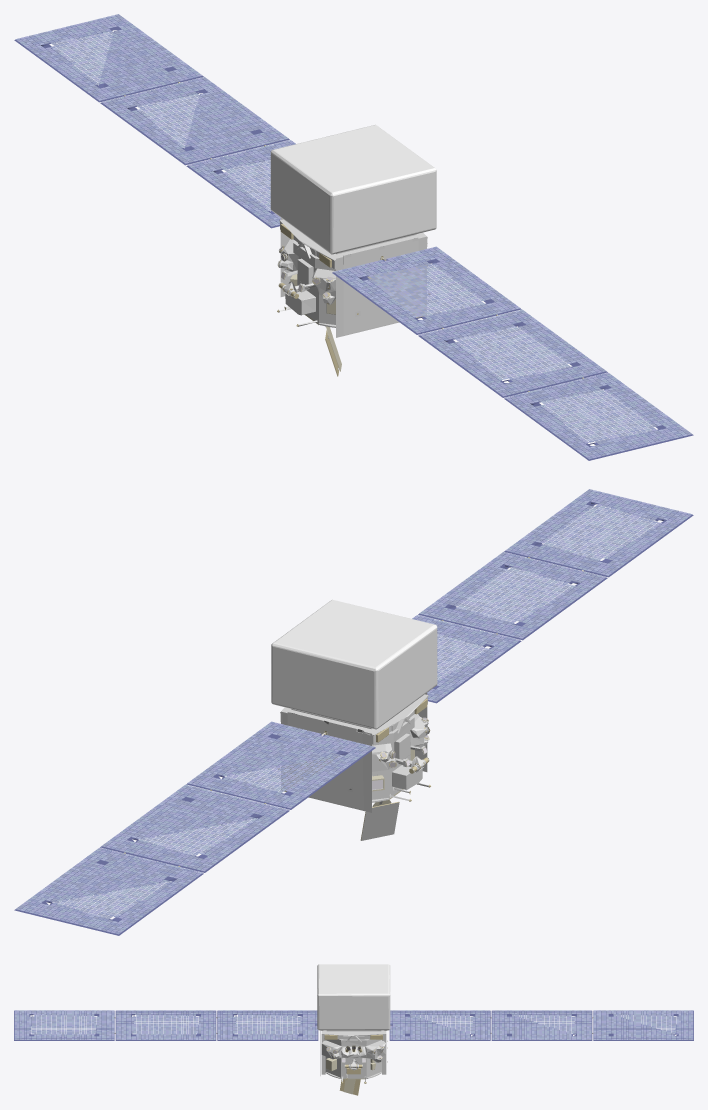
Rendered from fermi.glb.
3 renders of one model, top to bottom at view 1: azimuth 30°, elevation 25°; view 2: azimuth 150°, elevation 25°; view 3: azimuth 270°, elevation 25°, orthographic. The views are drawn at different scales.
Visible parts, largest first — view 1: Layer_1, Layer_2, Layer_0; view 2: Layer_1, Layer_2, Layer_0; view 3: Layer_1, Layer_2, Layer_0.
Part boxes in pixels (bbox=[...]): Layer_1: bbox=[14, 14, 693, 460]; Layer_2: bbox=[270, 124, 436, 254]; Layer_0: bbox=[277, 218, 430, 376]; Layer_1: bbox=[14, 489, 693, 935]; Layer_2: bbox=[271, 599, 437, 729]; Layer_0: bbox=[278, 693, 430, 840]; Layer_1: bbox=[14, 1010, 693, 1040]; Layer_2: bbox=[317, 964, 390, 1030]; Layer_0: bbox=[320, 1030, 387, 1095].
Size of the model in its own units: 8.54 by 12.1 by 62.31.
